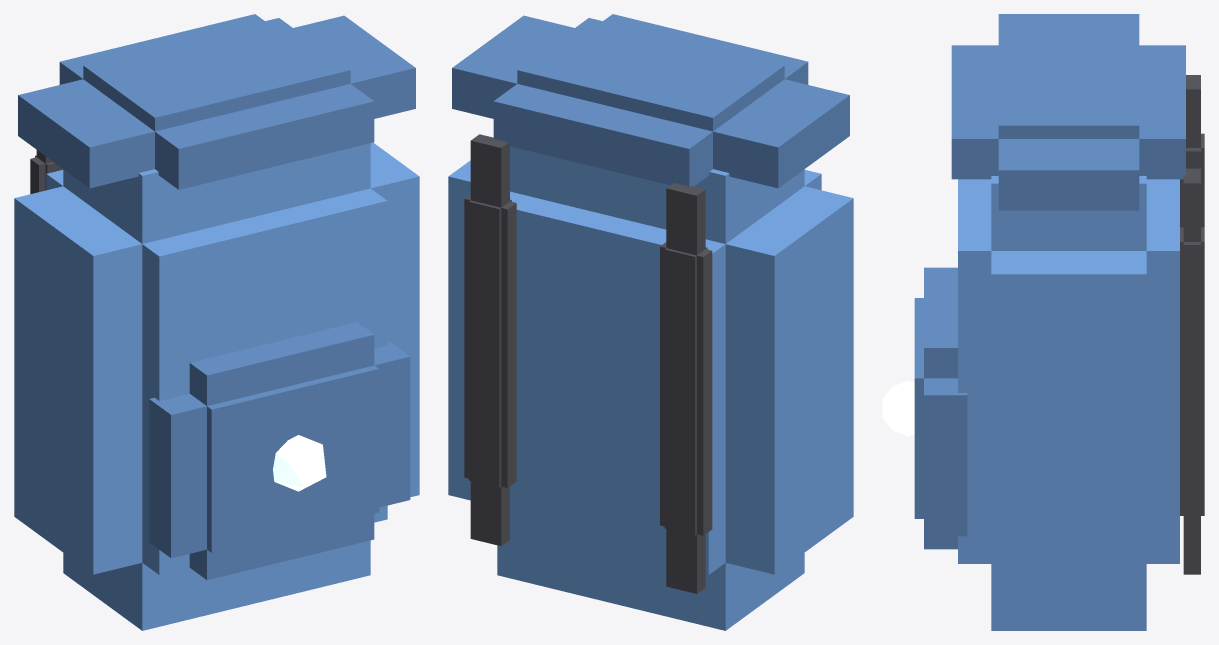
File: equip_backpack_3.glb
3 renders of one model, left to right at view 1: azimuth 30°, elevation 25°; view 2: azimuth 150°, elevation 25°; view 3: azimuth 270°, elevation 25°, orthographic.
Visible parts, largest first — view 1: box; view 2: box; view 3: box.
Part boxes in pixels (<box>): box: <box>14,14,419,630</box>; box: <box>448,14,853,630</box>; box: <box>882,14,1204,630</box>.
Size of the model in its own units: 0.6 by 0.89 by 0.5225.
